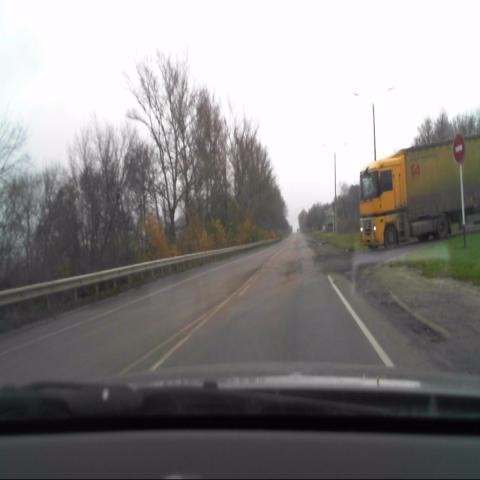3_1: (450, 131, 466, 167)
